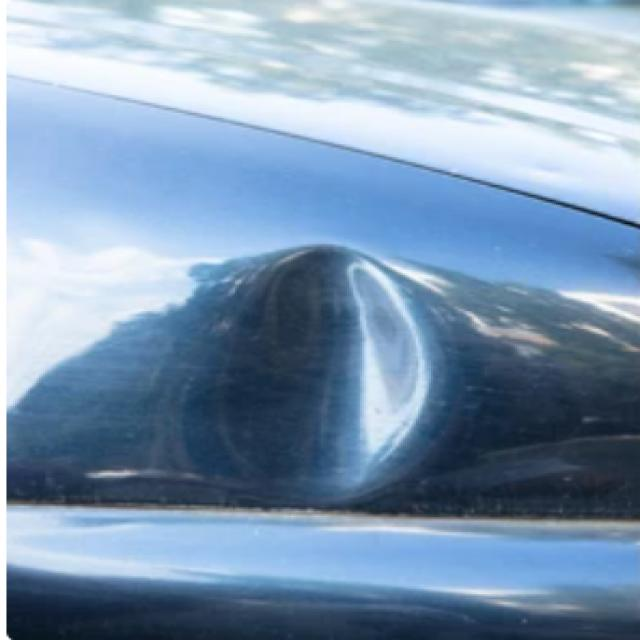dents: (167, 235, 487, 505)
